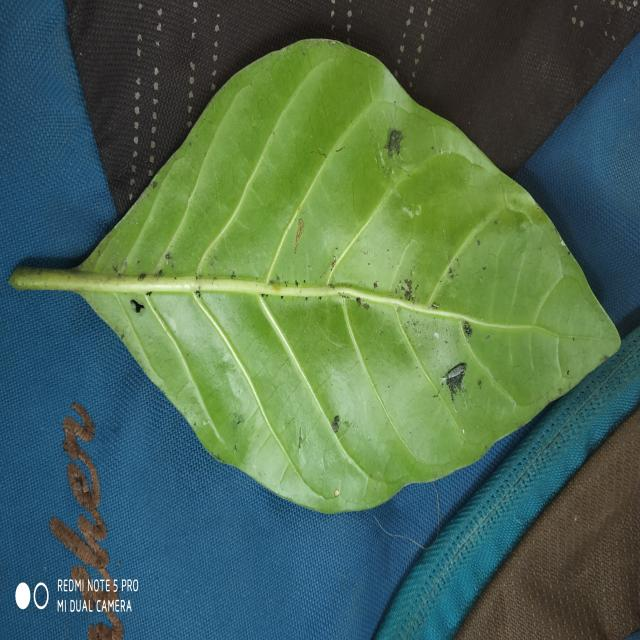anthracnosenooni: (70, 40, 620, 511)
